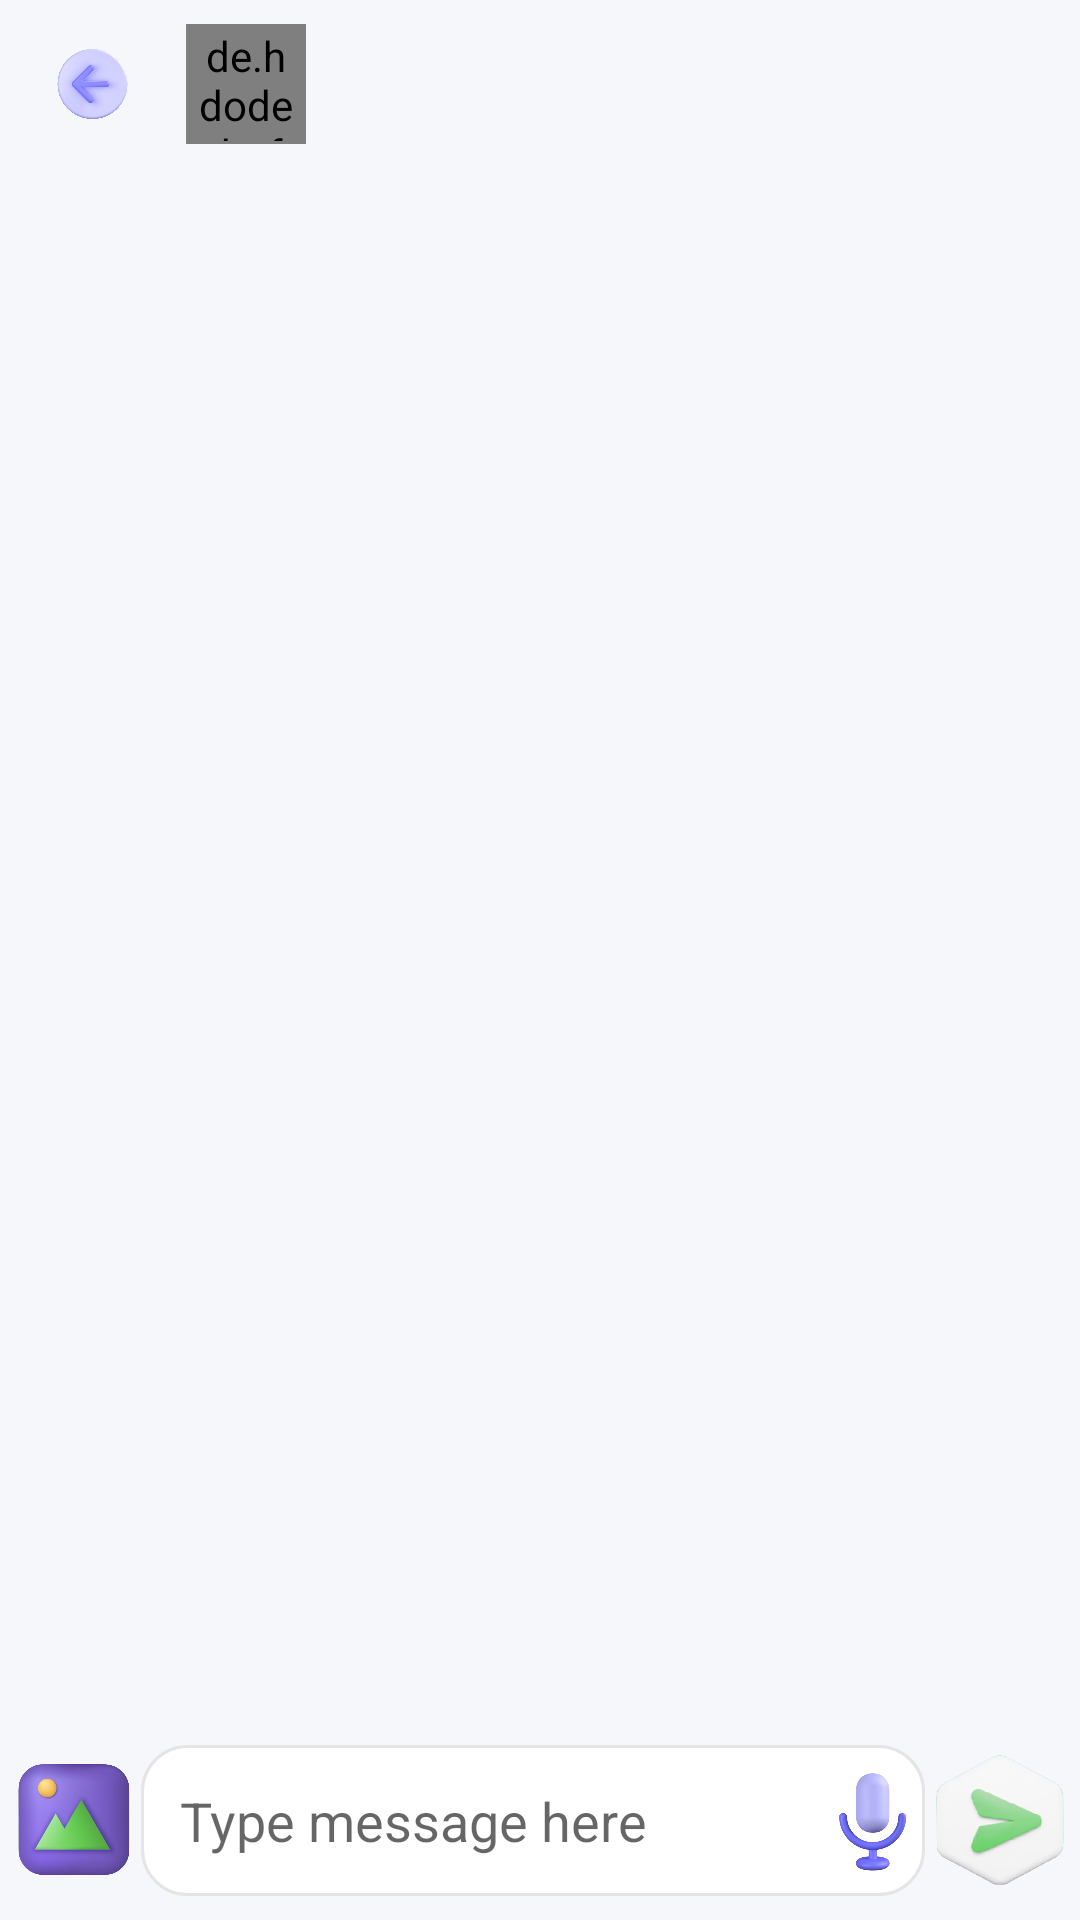

Where to tap for icons on this 1080w x 1920h app screen, as [x,y]:
back arrow: [92,84]
gallery: [73,1819]
mic: [872,1822]
send: [999,1820]
